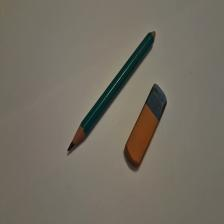eraser: (125, 84, 168, 167)
pencil: (68, 31, 157, 153)
